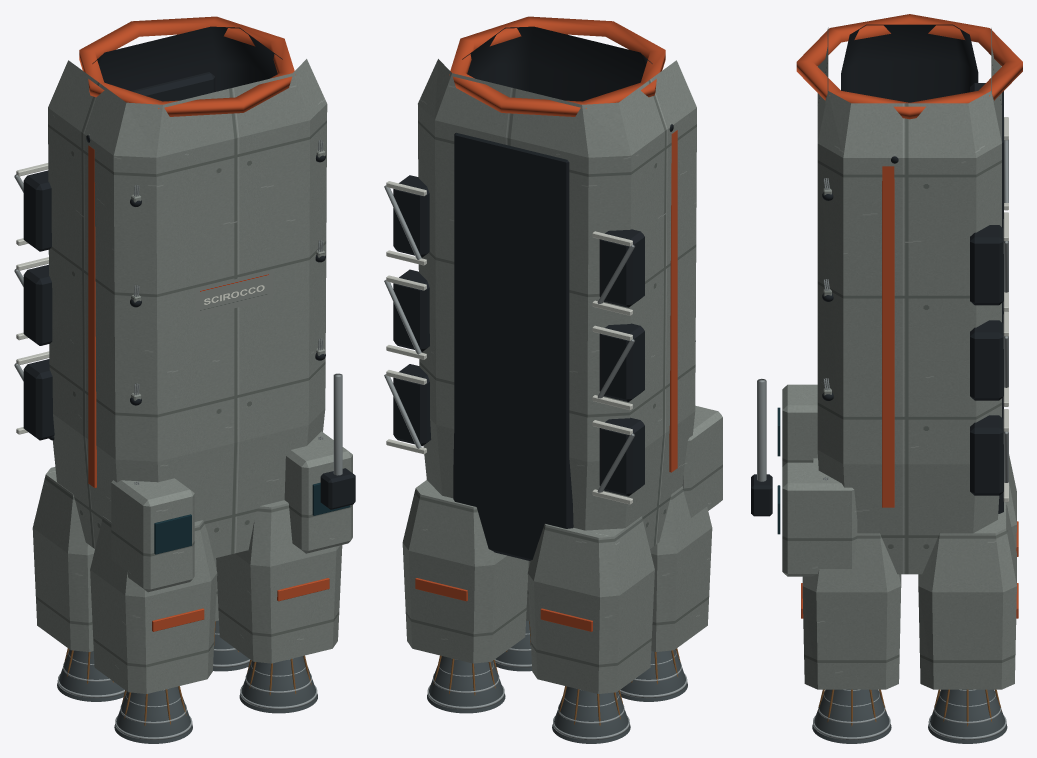
File: Scirocco.glb
3 views of the same model, side by side, from view 1: azimuth 30°, elevation 25°; view 2: azimuth 150°, elevation 25°; view 3: azimuth 270°, elevation 25° (orthographic).
Parts seen in each view (by area): view 1: paint, dark, accent, frame, silver, glass, white, copper; view 2: paint, dark, accent, frame, silver, white, copper; view 3: paint, dark, accent, frame, silver, white, copper.
Boxes of the visible parts, x1,y1,x2,y2 form: paint: [32, 59, 352, 693]; dark: [23, 26, 355, 509]; accent: [79, 16, 329, 631]; frame: [57, 620, 317, 743]; silver: [14, 134, 342, 740]; glass: [154, 482, 350, 554]; white: [16, 163, 49, 434]; copper: [64, 621, 311, 725]; paint: [402, 59, 722, 693]; dark: [393, 26, 695, 560]; accent: [415, 16, 677, 631]; frame: [427, 620, 687, 743]; silver: [384, 123, 687, 740]; white: [386, 181, 632, 504]; copper: [433, 621, 680, 725]; paint: [782, 27, 1016, 689]; dark: [751, 24, 1003, 516]; accent: [796, 14, 1022, 618]; frame: [812, 689, 1007, 743]; silver: [757, 140, 1008, 740]; white: [1003, 117, 1008, 502]; copper: [817, 689, 1001, 726].
Bounding box in the file's own units: 1.36 × 3.28 × 1.27.
9 materials, 1 textured.
